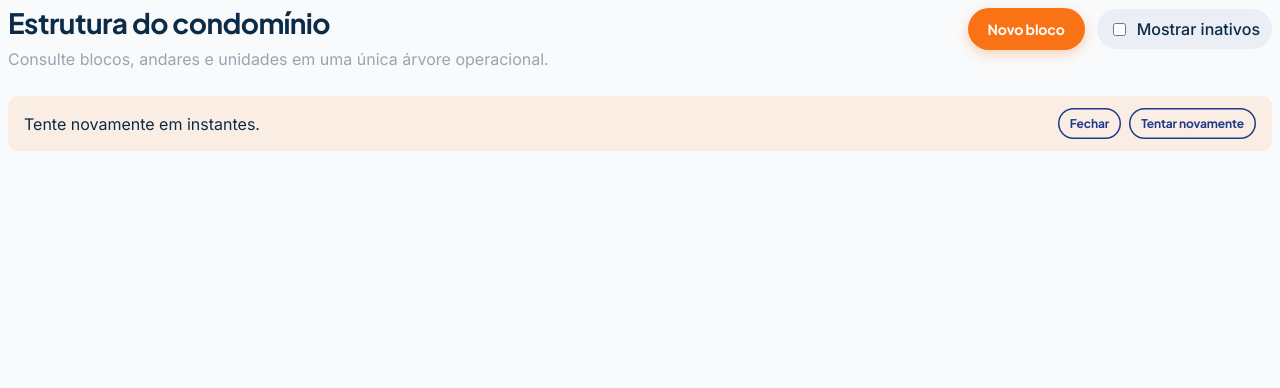
Test: EstruturaPage integration › shows error and retry button on 500, then clears the error after a successful retry
The width and height of the screenshot is (1280, 388).
Check: the message shows "Tente novamente em instantes.", box x1=24 y1=114 x2=260 y2=134
Click the button "Tentar novamente" at (1193, 124), box x1=1129 y1=108 x2=1256 y2=139
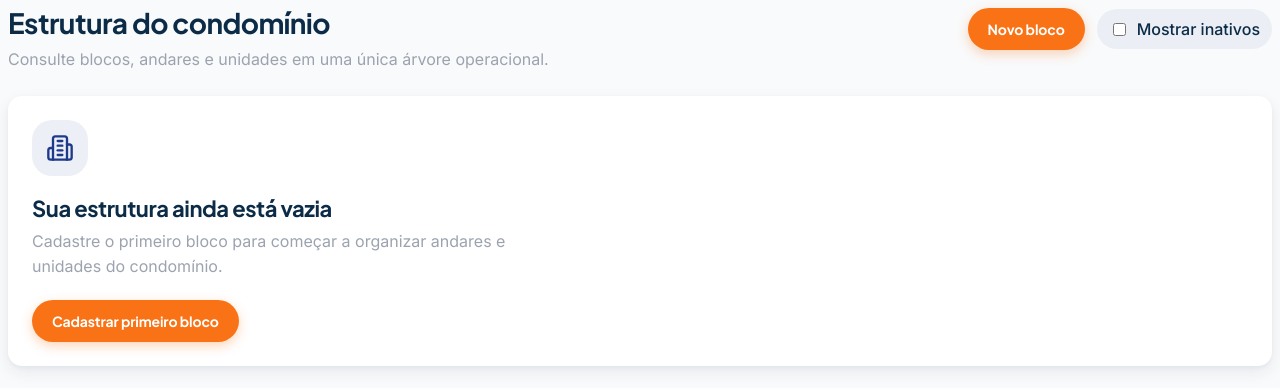
Check: the message "Tente novamente em instantes. Fechar Tentar novamente" is gone
Check: the heading "Sua estrutura ainda está vazia" is shown, box x1=32 y1=194 x2=332 y2=222
